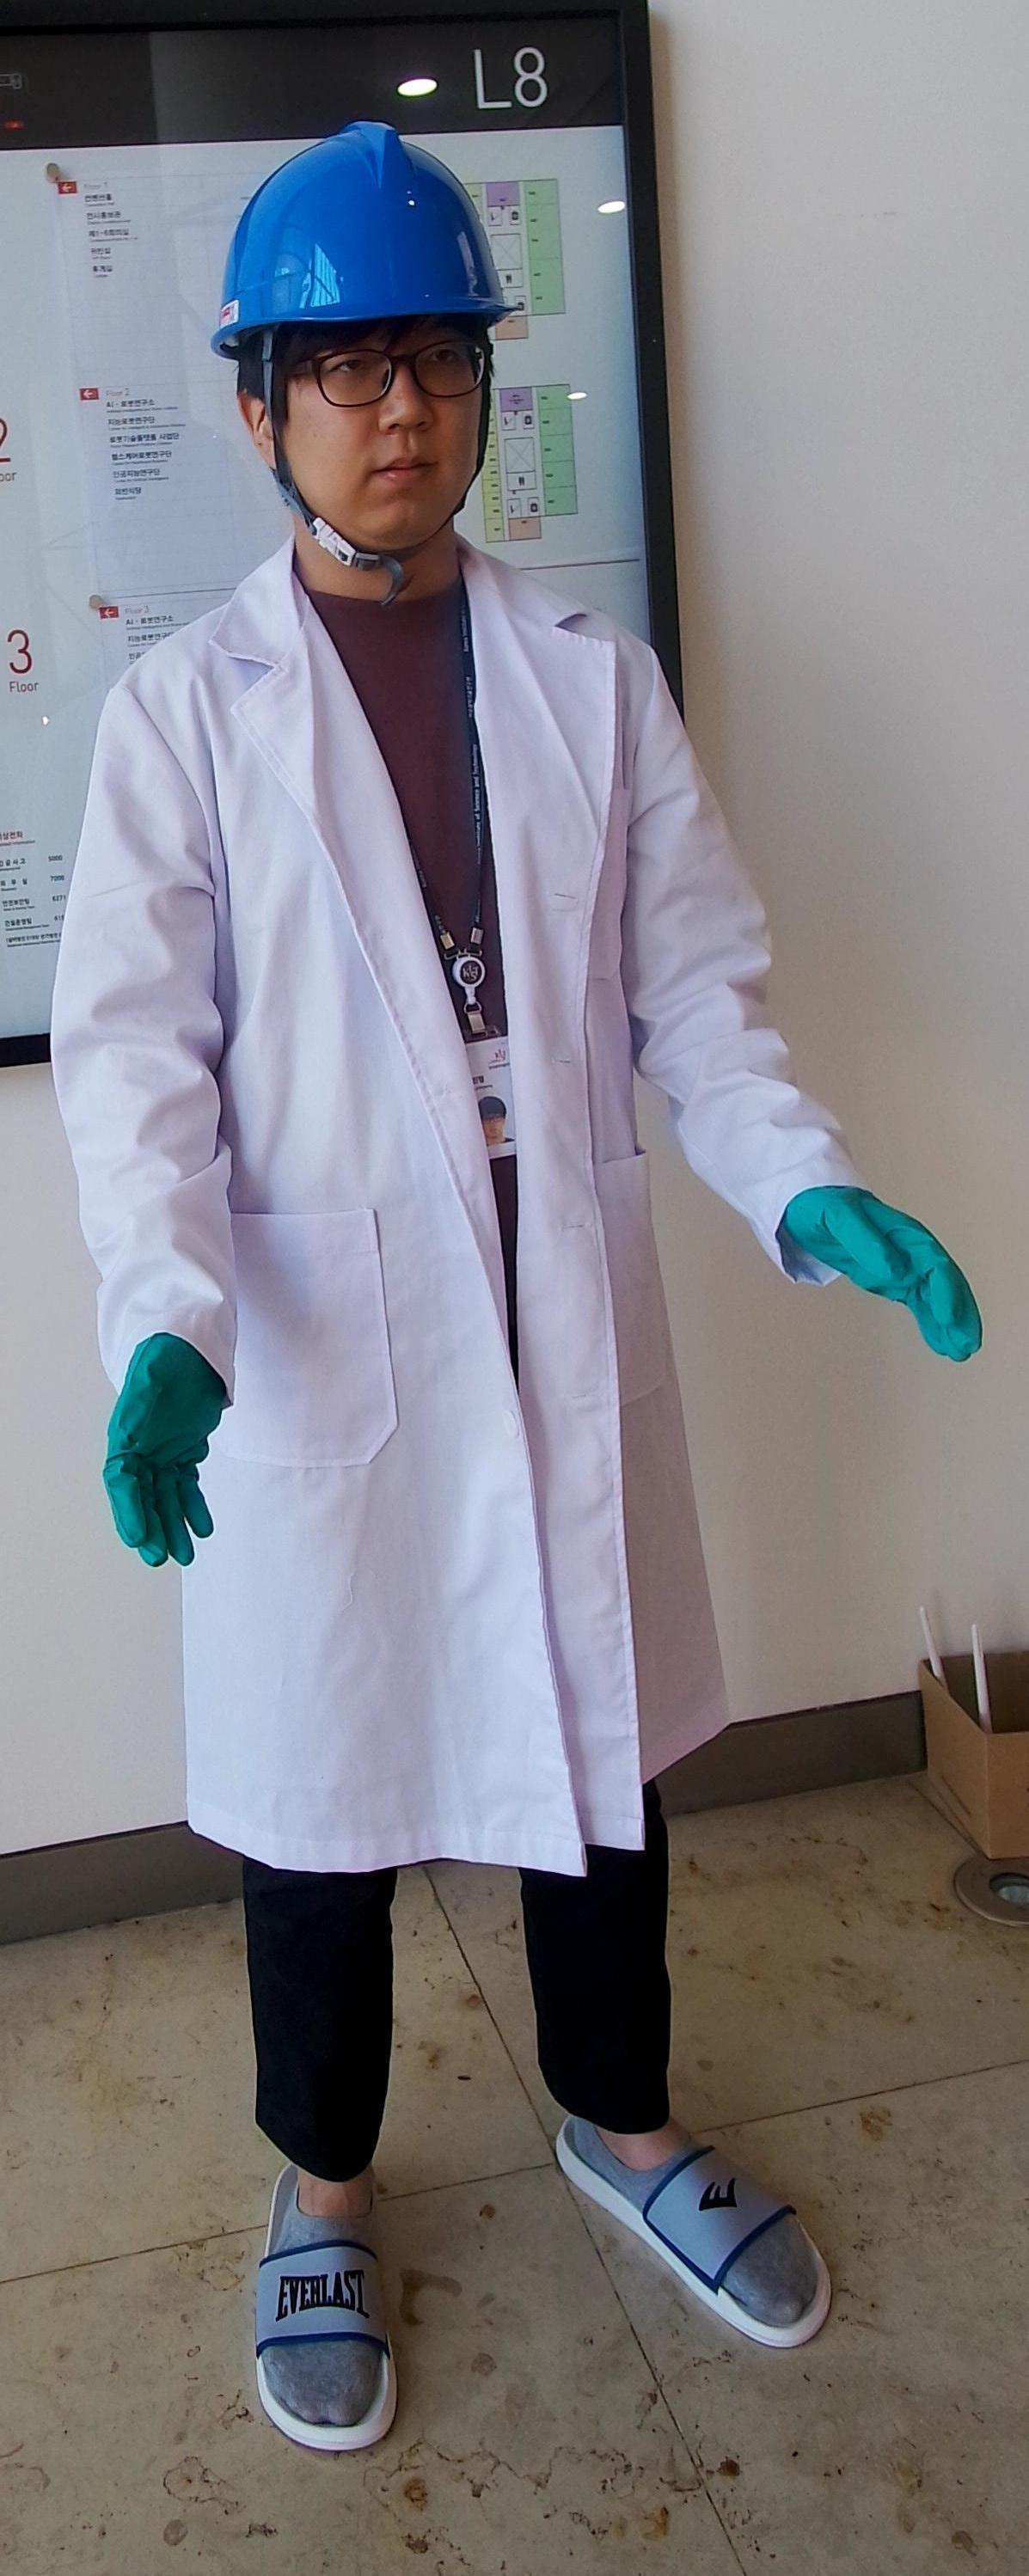lab_coat: (207, 628, 710, 1840)
